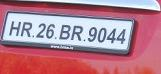0: (96, 26, 106, 42)
2: (35, 22, 45, 38)
4: (105, 27, 116, 43), (115, 28, 126, 44)
6: (45, 22, 54, 38)
9: (86, 25, 96, 41)
B: (59, 23, 70, 39)
H: (7, 19, 20, 36)
R: (70, 24, 82, 41), (20, 21, 31, 37)
